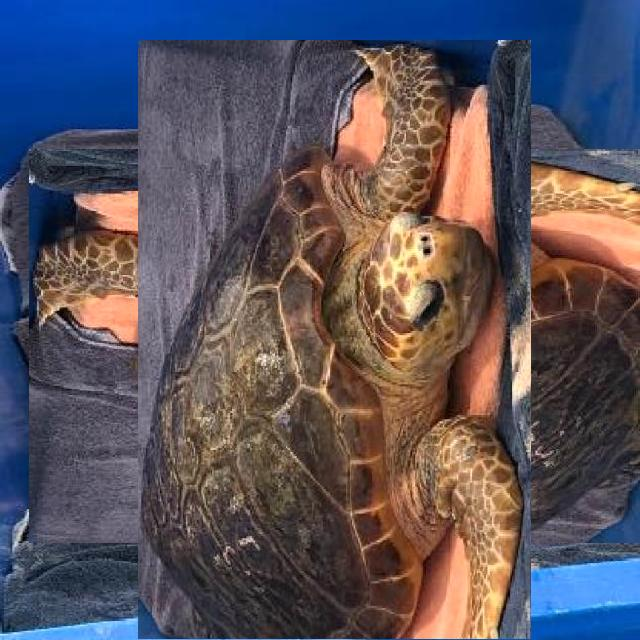Sea turtle: (83, 95, 586, 597)
